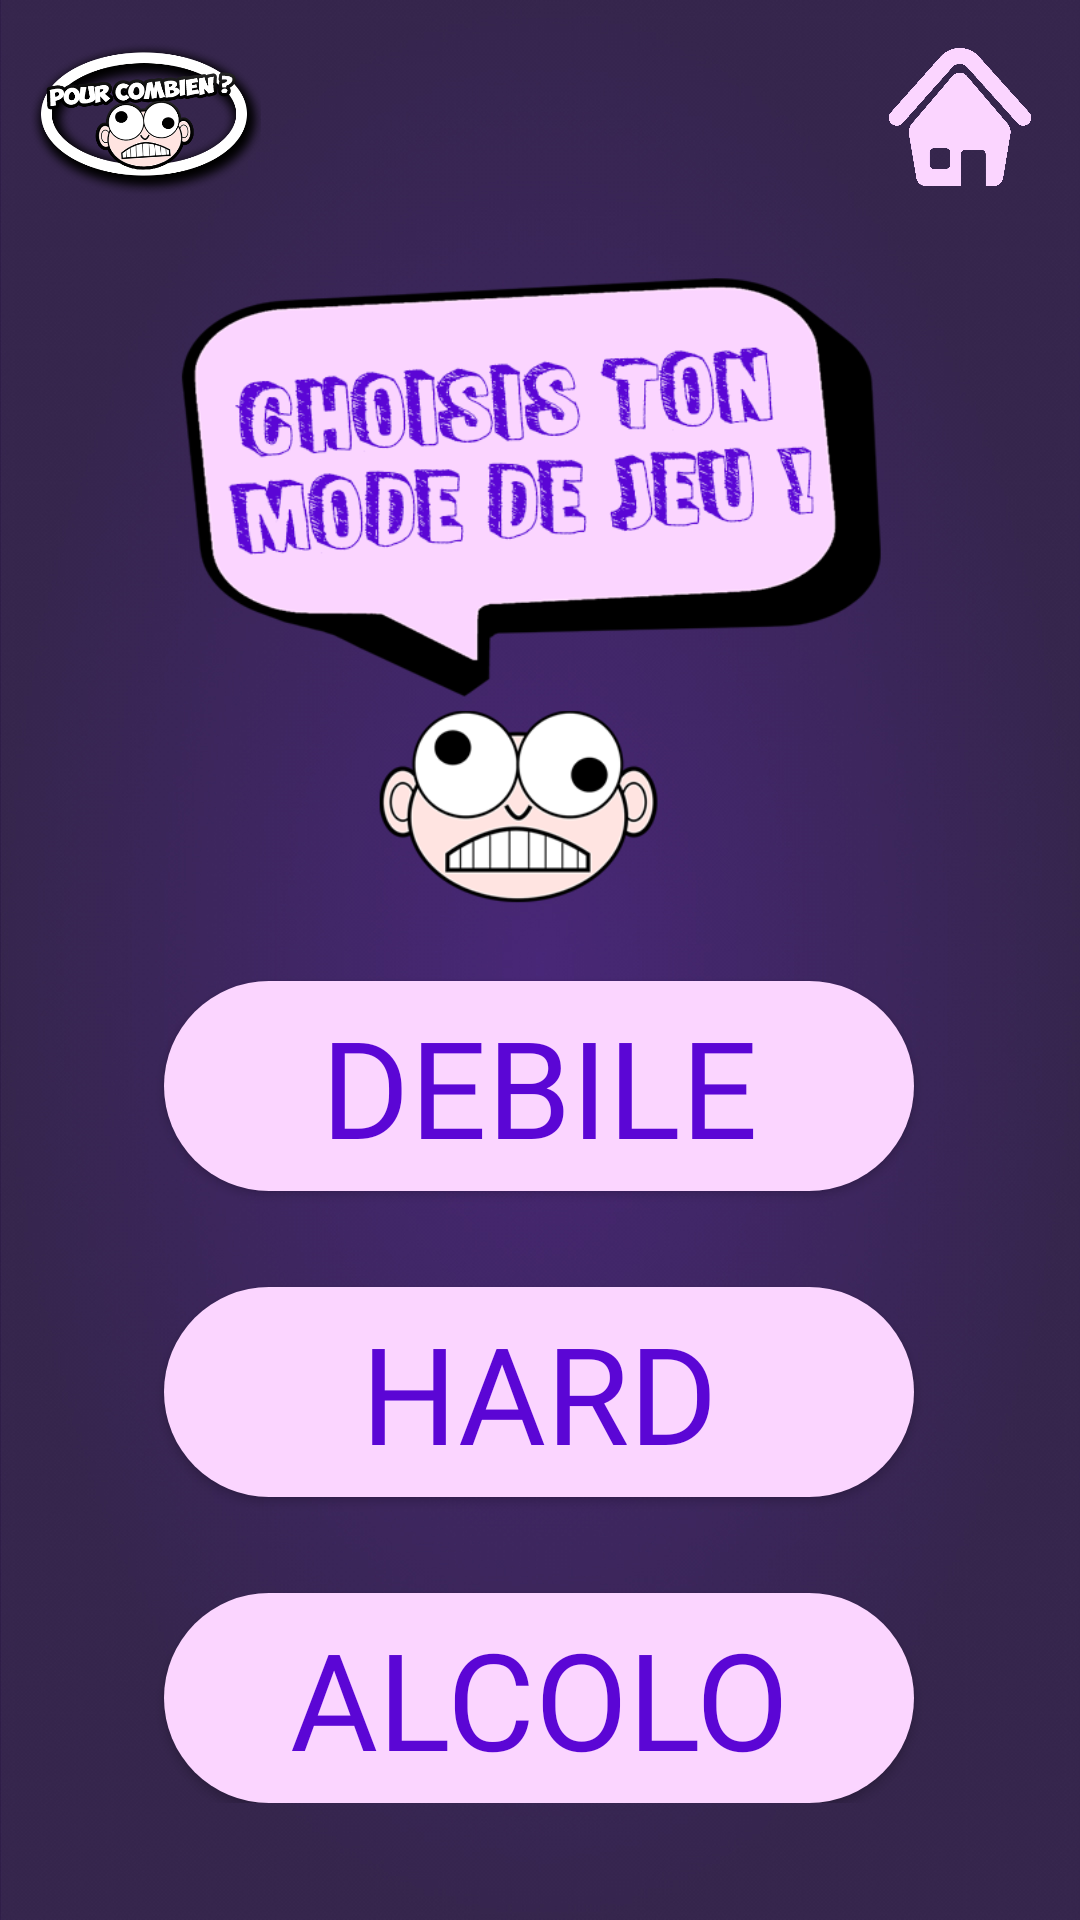

Screen size 1080 x 1920. Icon name, then its center in pixels as (x,y):
Bouton pour retourner à la page d'accueil: (960,117)
